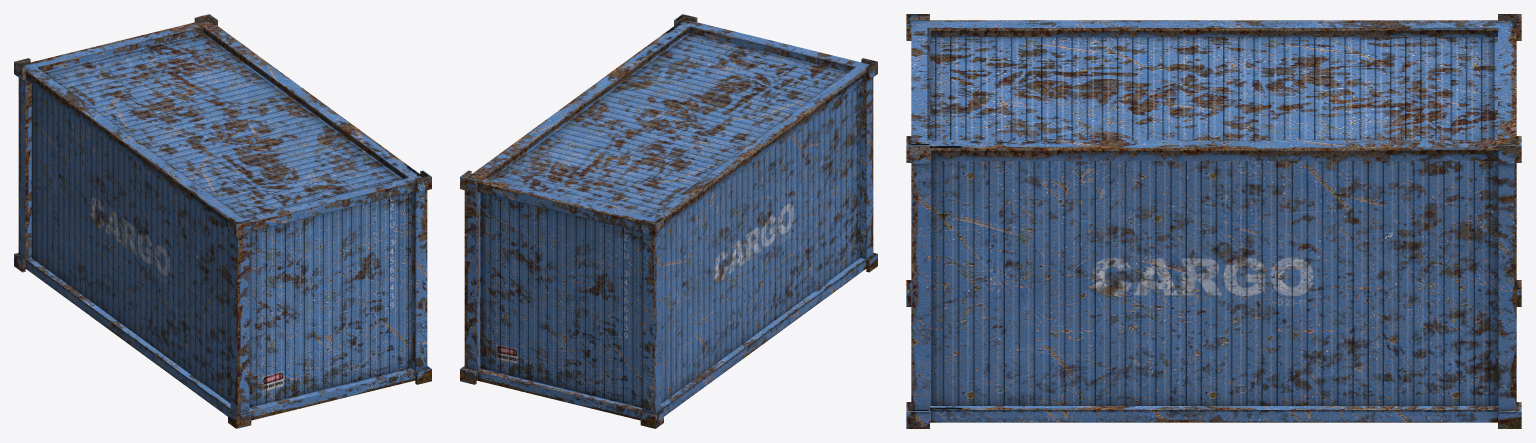
File: container2.fbx
The picture shows the model from 3 angles, left to right: view 1: azimuth 30°, elevation 25°; view 2: azimuth 150°, elevation 25°; view 3: azimuth 270°, elevation 25°; orthographic projection. The views are drawn at different scales.
Parts seen in each view (by area): view 1: container2_Layer1; view 2: container2_Layer1; view 3: container2_Layer1.
Part boxes in pixels (<box>): container2_Layer1: <box>14,14,431,428</box>; container2_Layer1: <box>460,14,877,428</box>; container2_Layer1: <box>906,14,1521,428</box>.
Bounding box in the file's own units: 66 × 66 × 130.
Materials: 1 (1 with a texture image).
